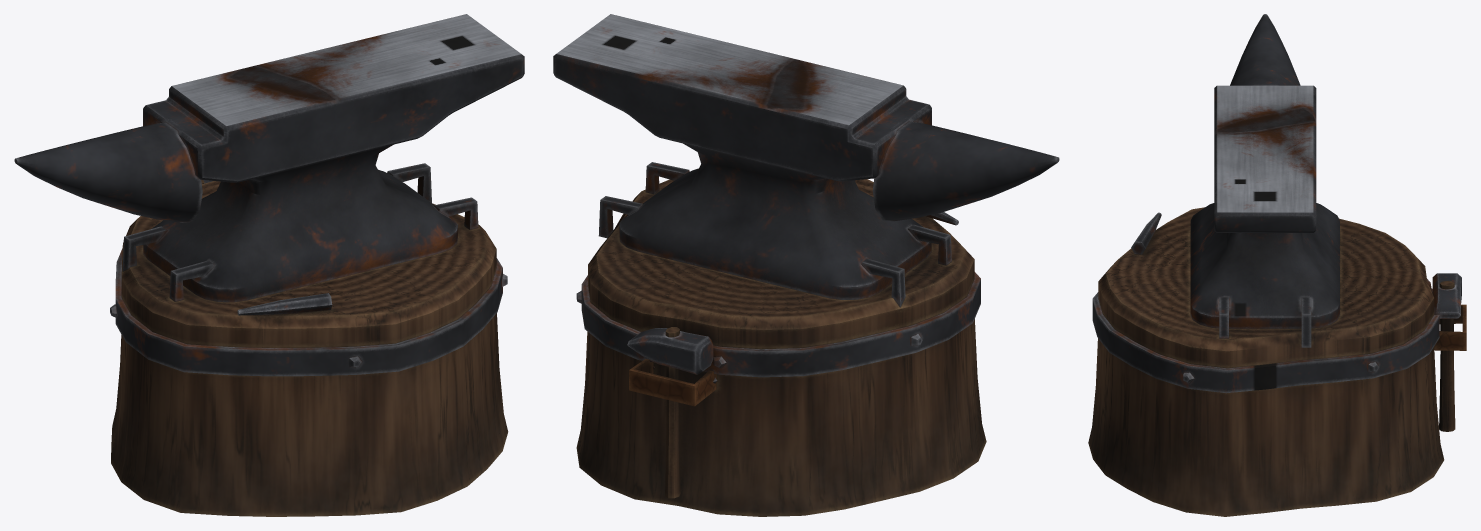
File: forja_yunque_sin_martillo.fbx
3 views of the same model, side by side, from view 1: azimuth 30°, elevation 25°; view 2: azimuth 150°, elevation 25°; view 3: azimuth 270°, elevation 25° (orthographic). The views are drawn at different scales.
Visible parts, largest first — view 1: forja_yunque_sin_martillo; view 2: forja_yunque_sin_martillo; view 3: forja_yunque_sin_martillo.
Boxes of the visible parts, x1=… form: forja_yunque_sin_martillo: x1=14, y1=14, x2=524, y2=516; forja_yunque_sin_martillo: x1=553, y1=14, x2=1059, y2=516; forja_yunque_sin_martillo: x1=1088, y1=14, x2=1466, y2=516.
Bounding box in the file's own units: 3.92 × 2.78 × 3.04.
Materials: 1 (1 with a texture image).
